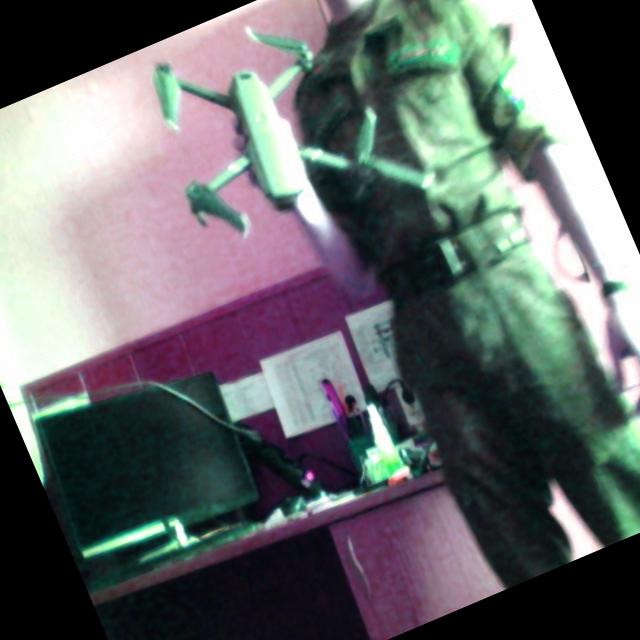drone: (121, 0, 418, 273)
